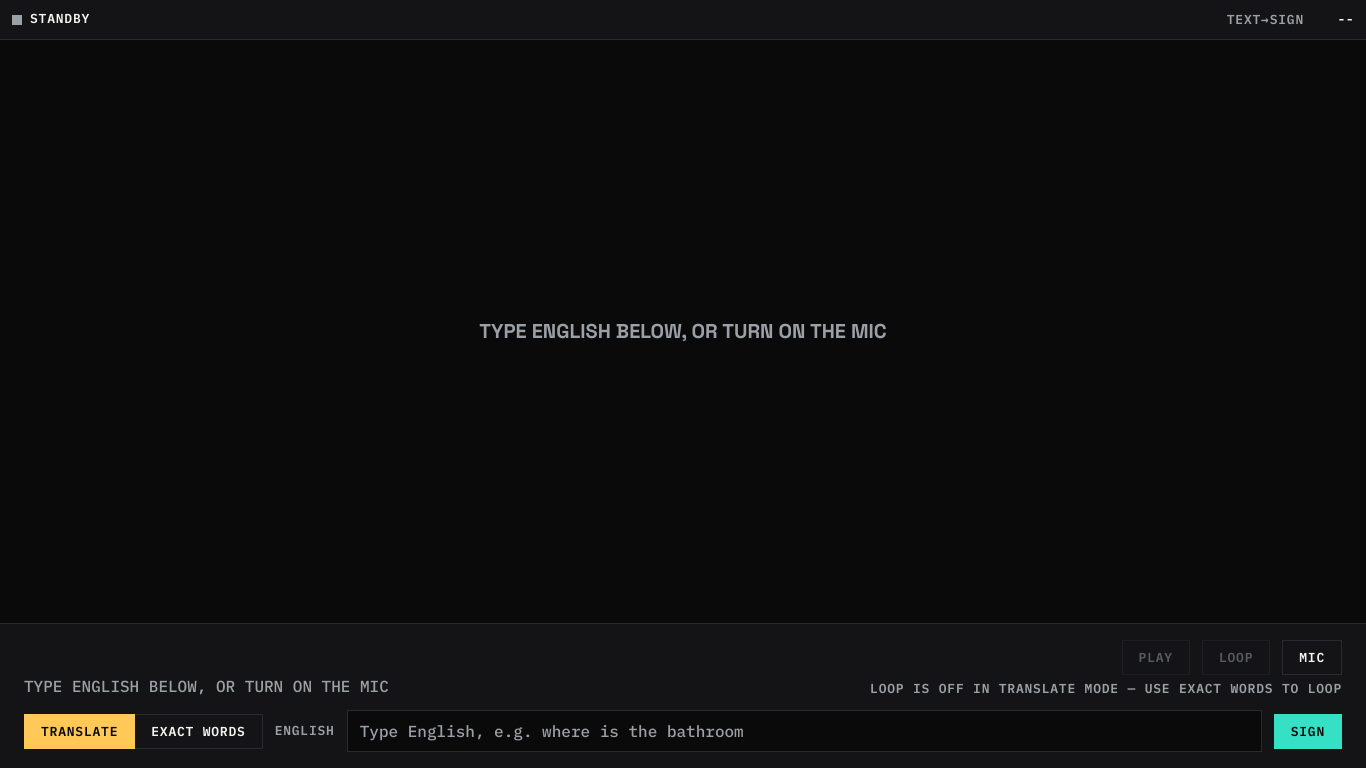
Scenario: App integration: real pose-library words › renders a real low_confidence word ("phone"): degraded-skeleton banner and real quality_notes appear, skeleton still plays
Step 1. Click the button "EXACT WORDS" → x=199, y=731, box [135,714,263,748]
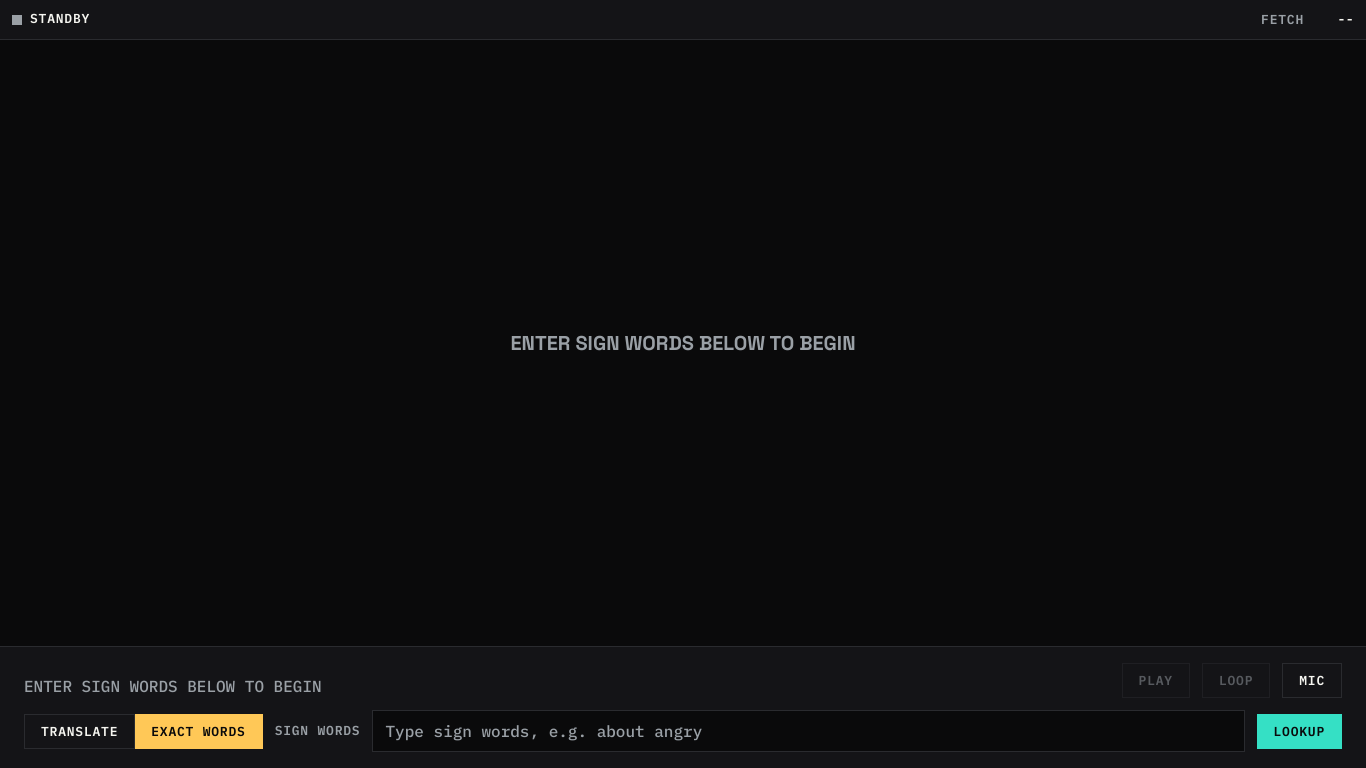
Step 2. Type "phone" into the field labelled "SIGN WORDS" → x=808, y=731, box [372,710,1244,752]
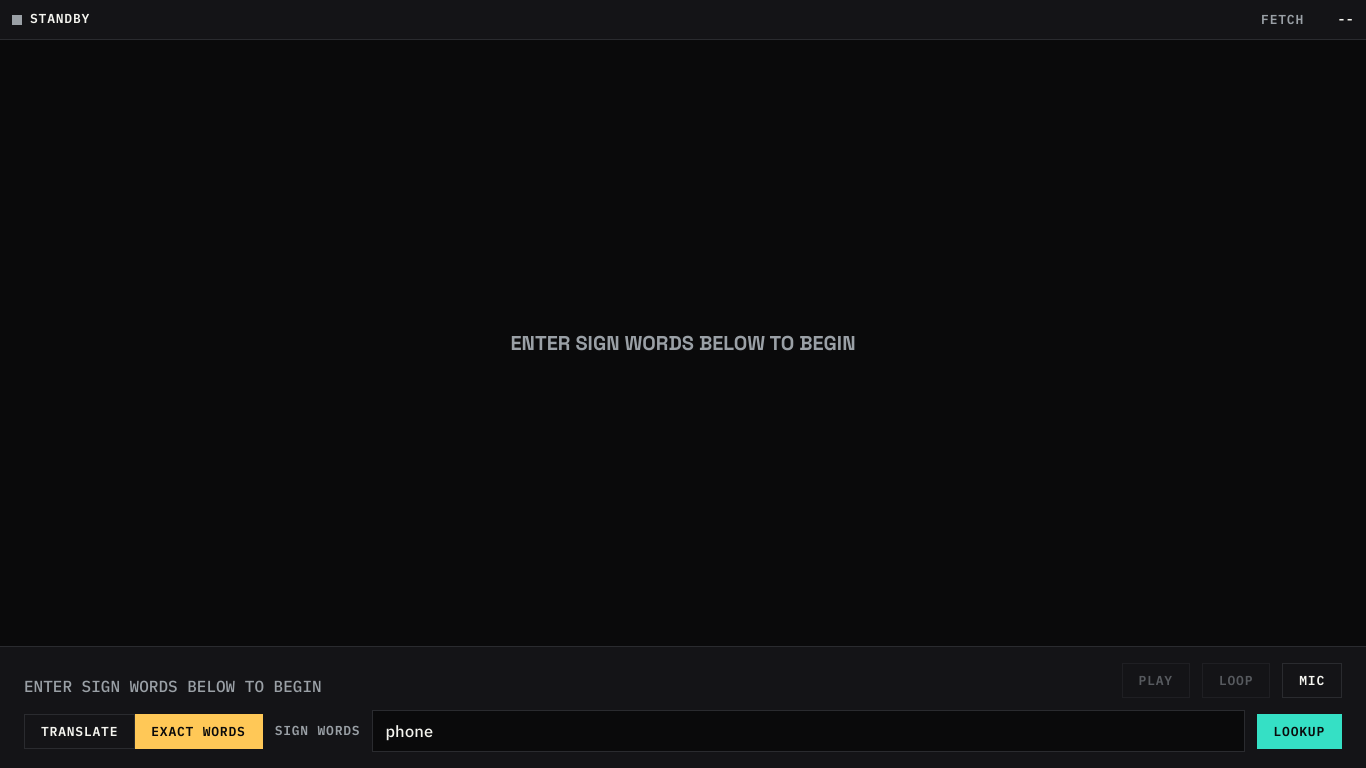
Step 3. Click the button "LOOKUP" → x=1299, y=731, box [1256,714,1342,748]
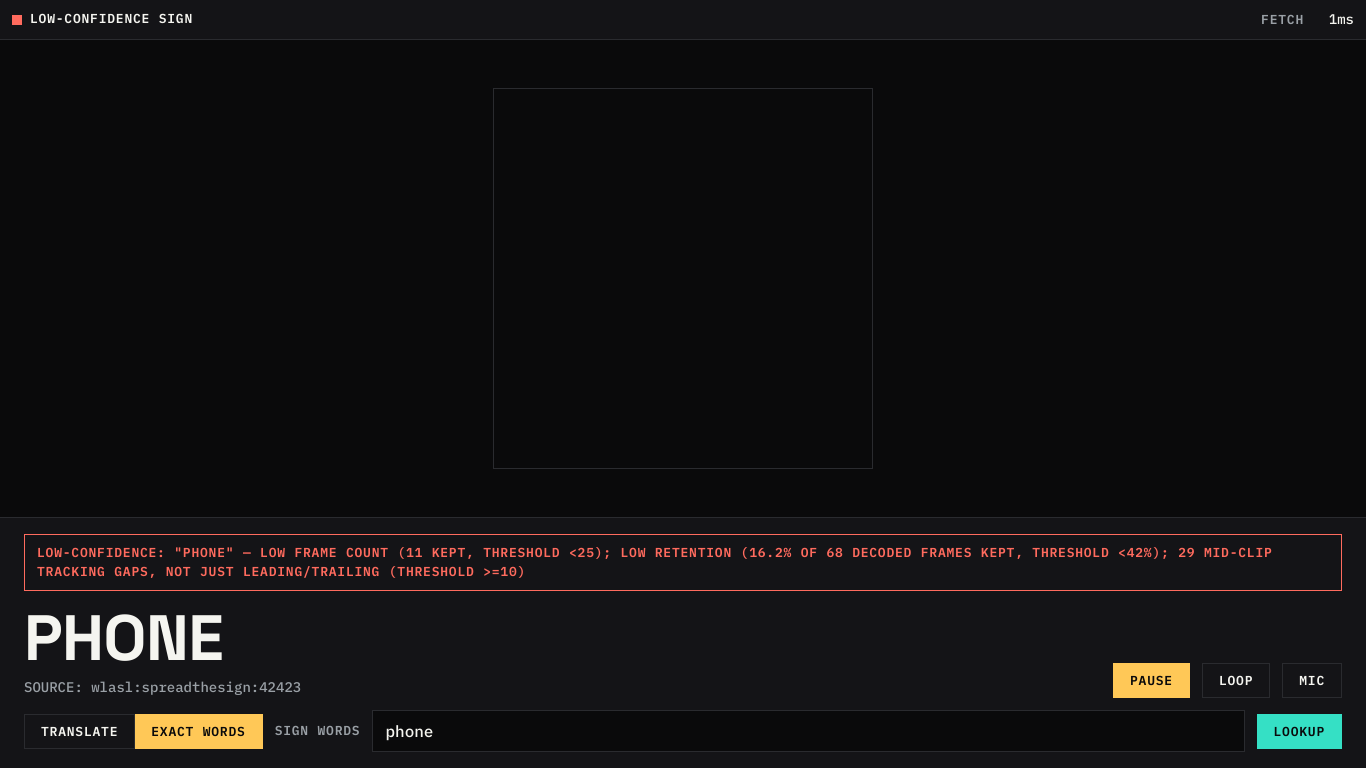
Now the heading "PHONE" is shown, box [24,603,223,673]
Now the picture named "ASL sign skeleton animation" is shown, box [494,89,872,468]
Now the text "LOW-CONFIDENCE SIGN" is shown, box [30,10,193,29]
